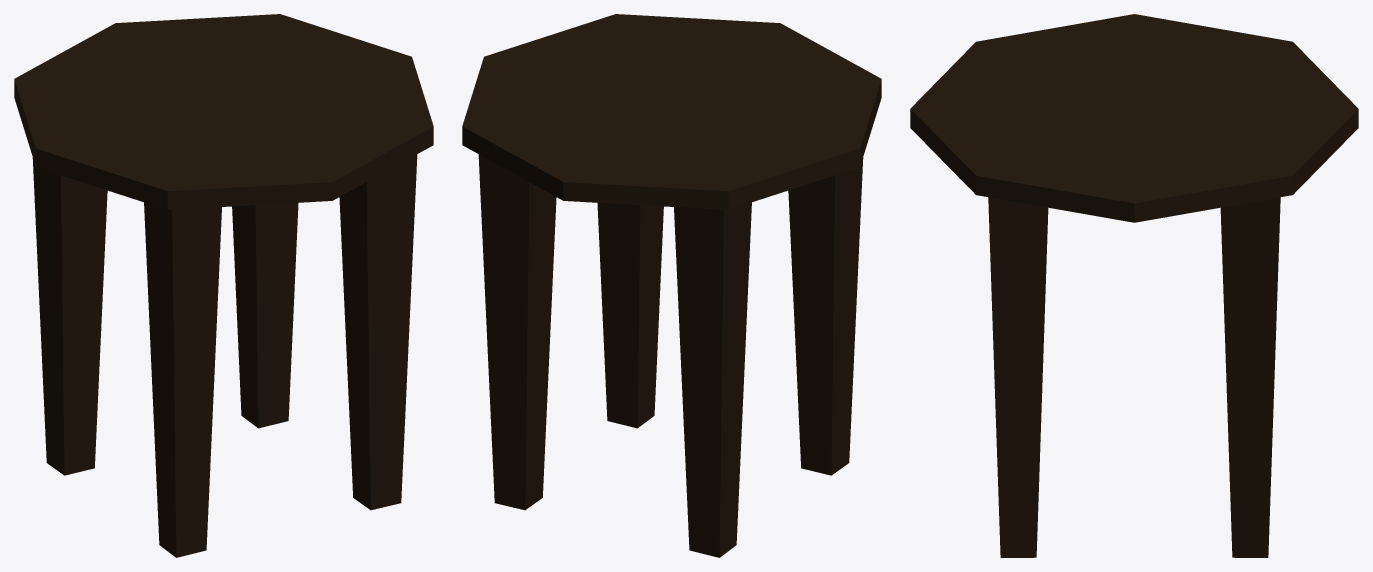
Rendered from SM_MesillaDeNoche.fbx.
3 views of the same model, side by side, from view 1: azimuth 30°, elevation 25°; view 2: azimuth 150°, elevation 25°; view 3: azimuth 270°, elevation 25° (orthographic). The views are drawn at different scales.
Parts seen in each view (by area): view 1: Mesilla; view 2: Mesilla; view 3: Mesilla.
Boxes of the visible parts, x1,y1,x2,y2 form: Mesilla: [14, 14, 433, 557]; Mesilla: [462, 14, 881, 557]; Mesilla: [910, 14, 1358, 557].
Size of the model in its own units: 183 by 177 by 183.
